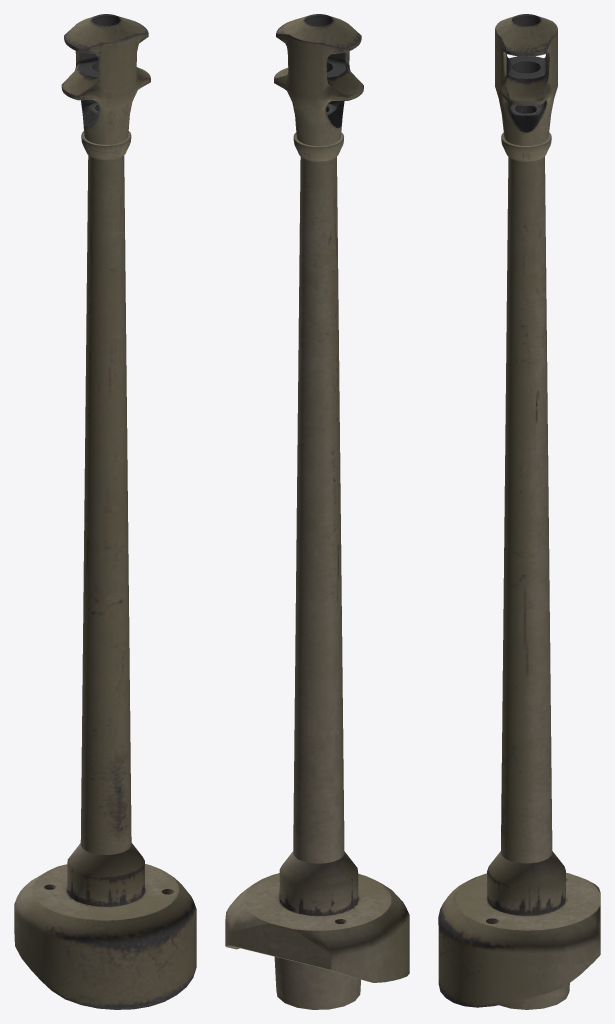
Rendered from Gun_01.glb.
3 views of the same model, side by side, from view 1: azimuth 30°, elevation 25°; view 2: azimuth 150°, elevation 25°; view 3: azimuth 270°, elevation 25° (orthographic).
Visible parts, largest first — view 1: set_0_group_0; view 2: set_0_group_0; view 3: set_0_group_0.
Boxes of the visible parts, <box> form: set_0_group_0: <box>14,14,196,1009</box>; set_0_group_0: <box>225,14,409,1009</box>; set_0_group_0: <box>438,14,600,1009</box>.
Bounding box in the file's own units: 0.8715 × 5.32 × 0.8039.
Materials: 1 (1 with a texture image).
